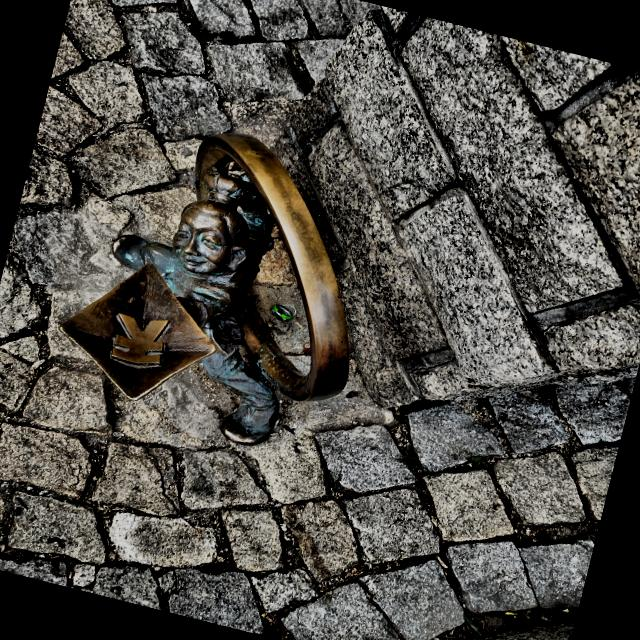TianTian: (59, 134, 349, 444)
